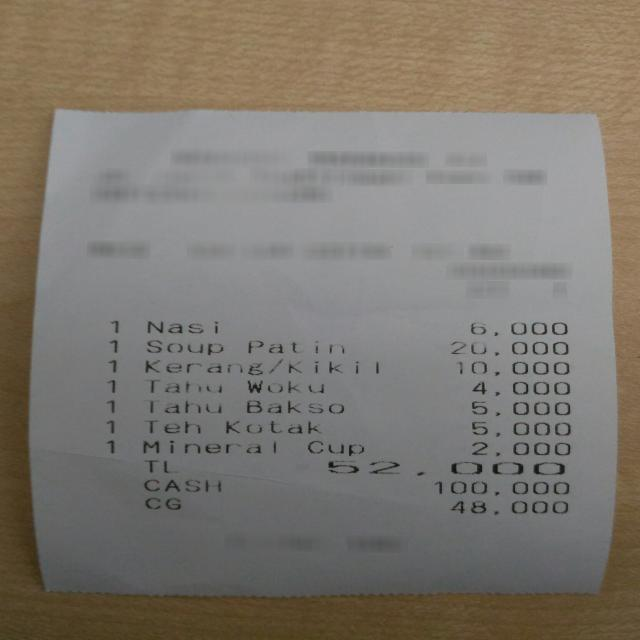kertas: (30, 110, 618, 599)
